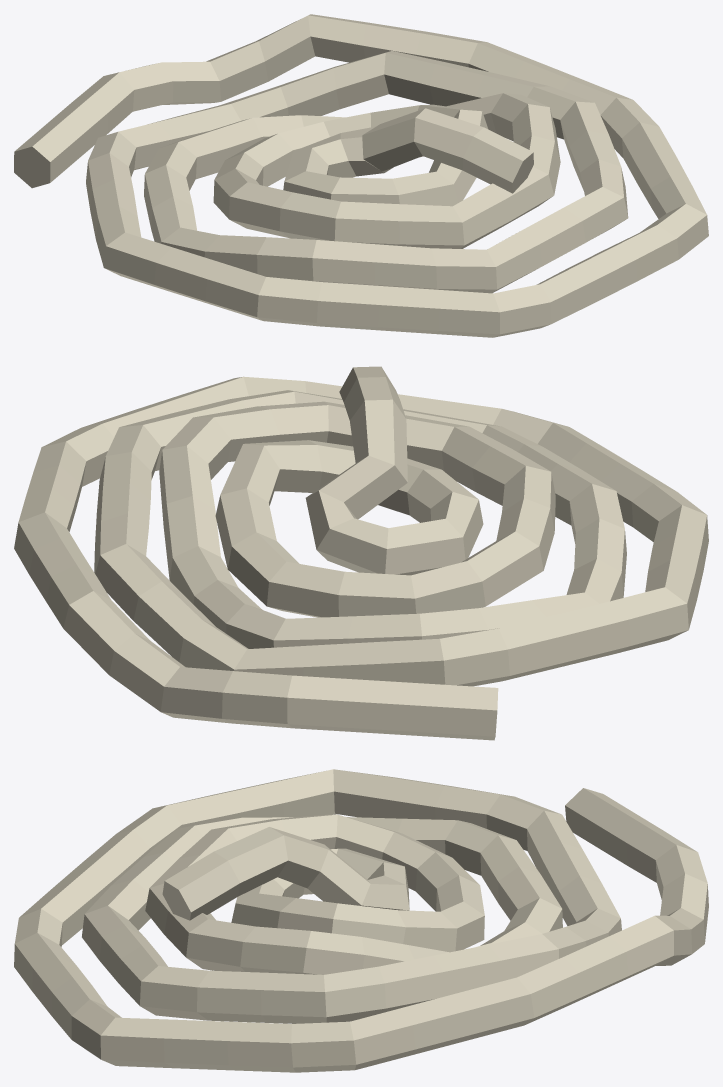
Rendered from string.fbx.
3 renders of one model, top to bottom at view 1: azimuth 30°, elevation 25°; view 2: azimuth 150°, elevation 25°; view 3: azimuth 270°, elevation 25°, orthographic. The views are drawn at different scales.
Visible parts, largest first — view 1: string; view 2: string; view 3: string.
Part boxes in pixels (box(x1,y1,x2,y2)): string: box(14, 14, 708, 337); string: box(14, 366, 708, 740); string: box(14, 769, 708, 1072).
Bounding box in the file's own units: 43.77 × 10.43 × 45.56.
